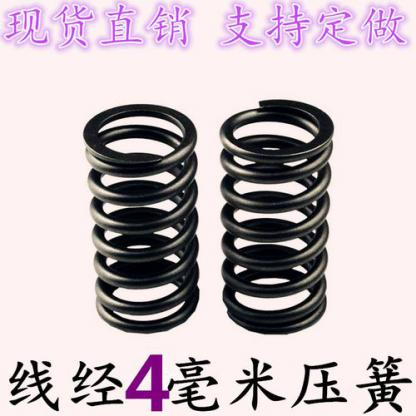FOD: (218, 93, 338, 337), (79, 101, 202, 337)
